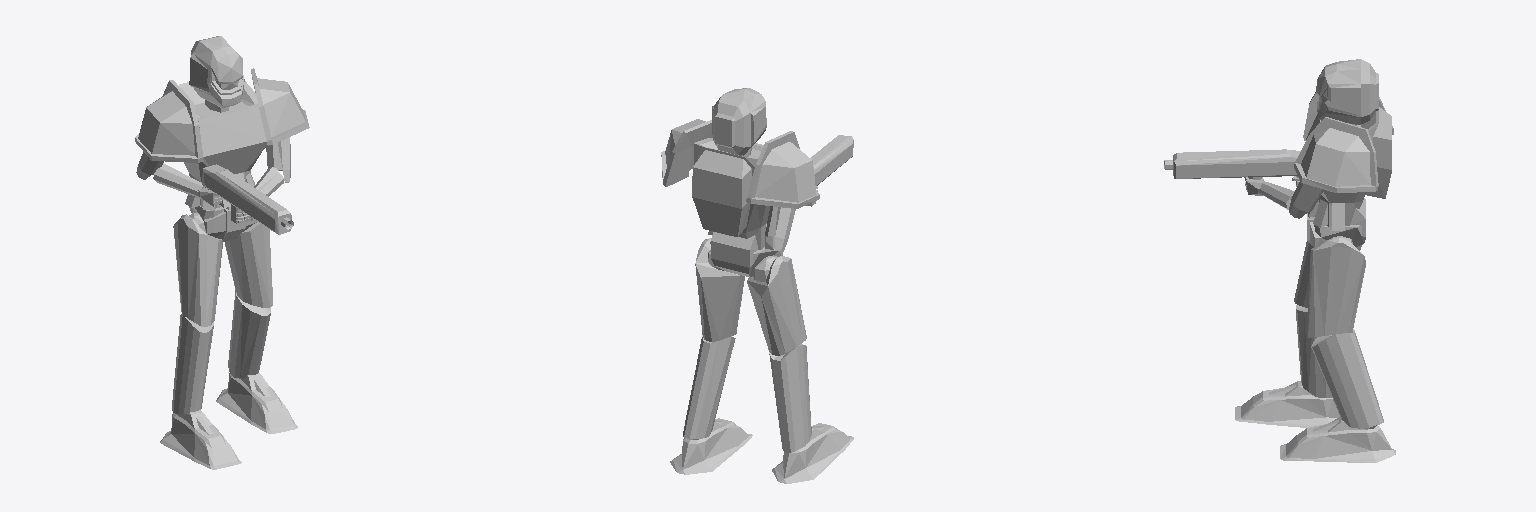
Rendered from robots_000014.obj.
3 views of the same model, side by side, from view 1: azimuth 30°, elevation 25°; view 2: azimuth 150°, elevation 25°; view 3: azimuth 270°, elevation 25° (orthographic).
Visible parts, largest first — view 1: Chest_plate_Cube.004, R_Thigh_Cube.005, Cube.002_Cube.059, Head_base_Cube.022, R_Thigh.002_Cube.027, R_Shin_Cube.007, R_Foot.002_Cube.035, Cube_Cube.001, R_Foot_Cube, R_Shin.002_Cube.029, Cube_Cube.021, Pelvis_Cube.006 (+2 smaller); view 2: Chest_plate_Cube.004, Cube.002_Cube.059, R_Thigh_Cube.005, R_Shin_Cube.007, R_Thigh.002_Cube.027, R_Shin.002_Cube.029, Head_base_Cube.022, R_Foot_Cube, R_Foot.002_Cube.035, Cube_Cube.021, Pelvis_Cube.006, Cube_Cube.001 (+1 smaller); view 3: Cube_Cube.021, R_Thigh.002_Cube.027, R_Shin.002_Cube.029, R_Foot.002_Cube.035, Head_base_Cube.022, Cube_Cube.001, R_Foot_Cube, Chest_plate_Cube.004, R_Shin_Cube.007, Pelvis_Cube.006, L_Arm_Cube.014, R_Thigh_Cube.005 (+1 smaller).
Part boxes in pixels (x1,y1,x2,y2): Chest_plate_Cube.004: (179,81,266,210); R_Thigh_Cube.005: (173,214,222,326); Cube.002_Cube.059: (135,80,203,162); Head_base_Cube.022: (189,36,244,107); R_Thigh.002_Cube.027: (225,222,272,307); R_Shin_Cube.007: (172,314,213,414); R_Foot.002_Cube.035: (216,373,297,433); Cube_Cube.001: (202,164,293,234); R_Foot_Cube: (160,410,241,469); R_Shin.002_Cube.029: (228,290,270,378); Cube_Cube.021: (251,68,309,145); Pelvis_Cube.006: (189,206,257,241); Chest_plate_Cube.004: (692,138,774,250); Cube.002_Cube.059: (746,131,819,208); R_Thigh_Cube.005: (747,256,806,355); R_Shin_Cube.007: (769,344,811,452); R_Thigh.002_Cube.027: (695,238,744,341); R_Shin.002_Cube.029: (683,335,735,438); Head_base_Cube.022: (712,88,766,155); R_Foot_Cube: (772,423,853,483); R_Foot.002_Cube.035: (670,418,752,474); Cube_Cube.021: (661,119,712,186); Pelvis_Cube.006: (710,232,782,277); Cube_Cube.001: (806,135,853,206); Cube_Cube.021: (1294,117,1378,192); R_Thigh.002_Cube.027: (1306,238,1365,337); R_Shin.002_Cube.029: (1311,329,1383,428); R_Foot.002_Cube.035: (1280,417,1395,462); Head_base_Cube.022: (1316,59,1378,124); Cube_Cube.001: (1164,149,1300,180); R_Foot_Cube: (1235,381,1339,427); Chest_plate_Cube.004: (1306,107,1391,230); R_Shin_Cube.007: (1296,305,1331,397); Pelvis_Cube.006: (1307,198,1365,246); L_Arm_Cube.014: (1289,181,1323,218); R_Thigh_Cube.005: (1294,241,1362,307).
Size of the model in its own units: 1.32 by 3.06 by 1.69.